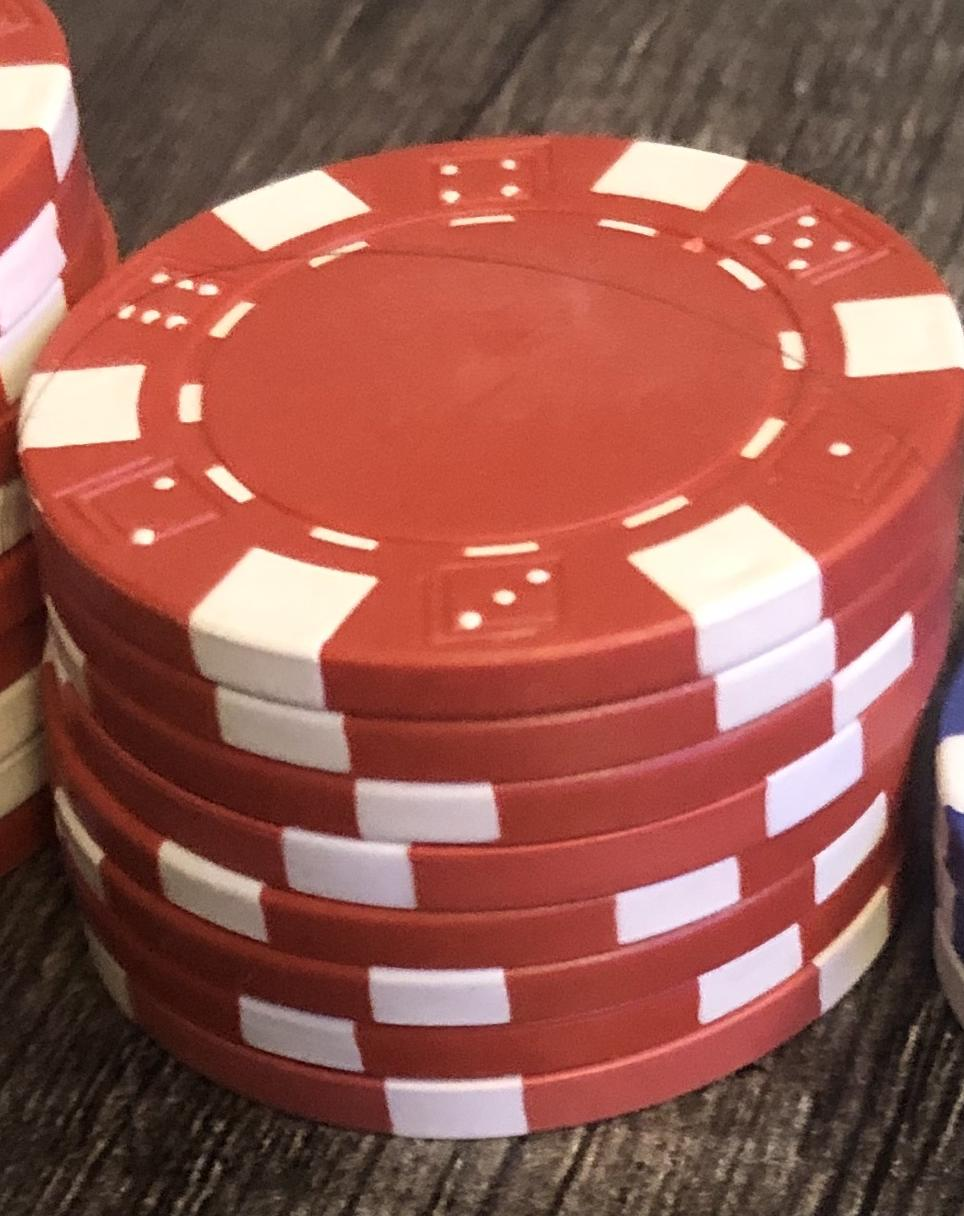Chip: (1, 1, 964, 1216)
